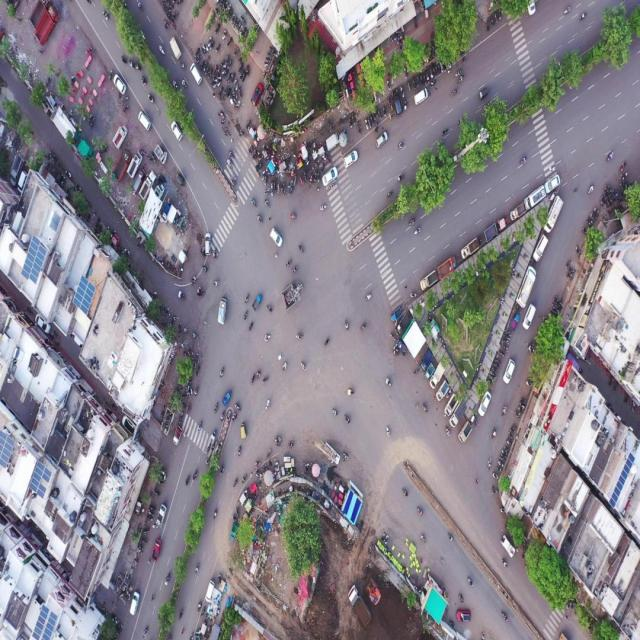3W: (478, 80, 490, 102), (239, 421, 248, 438)
Cars: (523, 303, 537, 333), (478, 390, 493, 418), (534, 234, 548, 264), (216, 294, 228, 328), (342, 147, 360, 169), (502, 360, 518, 384), (413, 84, 429, 107), (544, 174, 562, 194), (250, 81, 264, 106), (374, 131, 390, 152), (137, 110, 152, 132), (322, 166, 338, 185), (170, 120, 184, 141), (114, 74, 128, 95), (392, 89, 402, 117), (270, 225, 282, 248), (130, 590, 140, 615), (190, 64, 201, 86), (455, 608, 471, 622), (204, 228, 211, 257), (176, 169, 186, 189)
LCV: (516, 268, 536, 310), (544, 197, 565, 233), (524, 184, 546, 212), (322, 440, 341, 466), (140, 170, 155, 201), (437, 257, 457, 280), (460, 238, 479, 261), (420, 270, 438, 294), (127, 150, 141, 179), (450, 403, 467, 426), (112, 122, 127, 148), (509, 202, 526, 223), (443, 393, 458, 416), (168, 37, 182, 61), (150, 538, 162, 564), (156, 502, 168, 528), (419, 351, 433, 373), (154, 142, 167, 165), (459, 421, 472, 444), (436, 381, 449, 404), (325, 132, 340, 151), (251, 289, 263, 312), (397, 313, 409, 333), (221, 388, 234, 406), (395, 338, 407, 356), (172, 425, 182, 446), (509, 312, 520, 331), (391, 306, 402, 322), (425, 363, 435, 380)
M2W: (359, 317, 370, 338), (363, 286, 372, 308), (262, 330, 274, 346), (603, 149, 615, 165), (295, 240, 306, 256), (500, 608, 510, 625), (384, 424, 395, 439), (291, 263, 302, 278), (163, 571, 172, 589), (247, 372, 257, 388), (157, 41, 167, 57), (384, 186, 394, 202), (246, 319, 257, 333), (295, 328, 304, 345), (217, 364, 225, 382), (395, 171, 406, 184), (176, 607, 186, 621), (562, 4, 572, 18), (264, 398, 273, 413), (135, 0, 144, 15), (401, 487, 411, 500), (518, 155, 528, 168), (299, 356, 307, 372), (141, 624, 149, 640), (265, 300, 272, 318), (255, 214, 264, 228), (250, 197, 259, 211), (192, 466, 199, 484), (100, 8, 109, 22), (144, 90, 154, 102), (464, 576, 474, 588), (208, 428, 218, 440), (413, 225, 423, 237), (617, 160, 627, 172), (235, 445, 244, 458), (487, 455, 492, 478), (332, 404, 339, 420), (213, 398, 220, 414), (281, 358, 288, 374), (419, 530, 426, 546), (402, 98, 409, 114), (578, 11, 588, 22), (457, 592, 466, 604), (500, 556, 509, 568), (446, 531, 455, 543), (212, 246, 218, 264), (224, 158, 233, 170), (586, 183, 595, 195), (324, 334, 331, 349), (184, 472, 191, 487), (416, 502, 423, 517), (128, 57, 135, 72), (500, 404, 507, 419), (219, 461, 226, 475), (193, 563, 200, 577), (264, 196, 271, 210), (185, 401, 192, 415), (490, 428, 497, 442), (344, 320, 352, 332), (408, 217, 416, 229), (477, 230, 483, 246), (197, 420, 204, 433), (181, 77, 188, 90), (421, 401, 428, 414), (119, 55, 126, 68), (212, 506, 218, 521), (204, 454, 210, 469), (319, 202, 328, 212), (563, 258, 572, 268), (409, 289, 417, 300), (344, 412, 351, 424), (232, 476, 239, 488), (196, 600, 202, 614), (193, 383, 199, 397), (228, 148, 235, 160), (172, 78, 179, 90), (107, 68, 113, 82), (289, 211, 298, 220), (449, 89, 458, 98), (235, 402, 243, 412), (525, 380, 533, 390), (220, 408, 226, 421), (206, 442, 212, 455), (70, 73, 76, 86), (551, 295, 557, 308), (222, 29, 228, 42), (227, 34, 233, 47), (397, 141, 404, 152), (213, 279, 221, 288), (230, 174, 236, 186), (140, 75, 146, 87), (454, 69, 462, 78), (509, 424, 517, 433), (500, 344, 509, 352), (504, 328, 513, 336), (566, 272, 574, 281), (574, 244, 580, 256), (238, 88, 244, 100), (195, 46, 201, 58), (217, 86, 223, 98), (225, 72, 231, 84), (445, 425, 450, 439), (261, 375, 268, 385), (457, 76, 464, 86), (490, 15, 495, 29), (260, 170, 265, 184), (257, 367, 261, 384), (232, 411, 238, 422), (122, 102, 128, 113), (298, 174, 304, 185), (214, 23, 220, 34), (225, 54, 231, 65), (386, 79, 391, 92), (201, 266, 209, 274), (276, 180, 280, 196), (501, 338, 509, 346), (551, 309, 559, 317), (328, 182, 335, 191), (441, 126, 448, 135), (497, 350, 506, 357), (508, 431, 514, 441), (514, 410, 520, 420), (233, 47, 239, 57), (221, 65, 227, 75), (212, 79, 217, 91), (122, 94, 129, 102), (143, 529, 150, 537), (202, 43, 209, 51), (200, 58, 204, 72), (343, 452, 350, 460), (196, 365, 201, 376), (430, 80, 436, 89), (136, 59, 140, 72), (303, 170, 307, 183), (437, 62, 441, 75), (486, 20, 490, 33), (231, 70, 235, 83), (217, 76, 222, 86), (180, 63, 187, 70), (497, 460, 504, 467), (141, 538, 148, 545), (212, 439, 216, 451), (492, 472, 498, 480), (496, 466, 502, 474), (520, 402, 526, 410), (348, 116, 352, 128), (357, 124, 361, 136), (378, 109, 382, 121), (370, 114, 374, 126), (407, 80, 411, 92), (416, 76, 420, 88), (434, 64, 438, 76), (146, 516, 154, 522), (208, 36, 212, 48), (234, 78, 238, 90), (220, 57, 224, 69), (214, 64, 218, 76), (264, 175, 268, 187), (256, 471, 262, 479), (215, 44, 220, 53), (238, 63, 243, 72), (365, 120, 369, 131), (229, 59, 233, 70), (505, 440, 512, 446), (494, 357, 501, 363), (568, 267, 574, 274), (494, 11, 497, 25), (155, 490, 161, 497), (149, 505, 156, 511), (200, 48, 207, 54), (289, 186, 293, 196), (423, 74, 427, 84), (90, 118, 94, 128), (88, 114, 92, 124), (246, 64, 250, 74), (320, 162, 324, 172), (375, 106, 378, 119), (433, 65, 436, 78), (273, 180, 276, 192), (499, 456, 505, 462), (401, 86, 404, 98), (430, 67, 433, 79), (242, 73, 246, 82), (501, 450, 508, 455), (288, 180, 293, 187), (352, 114, 355, 125), (383, 106, 386, 117), (412, 79, 415, 90), (420, 75, 423, 86), (314, 170, 317, 181), (242, 474, 245, 485), (375, 122, 378, 132), (211, 41, 214, 51), (318, 170, 320, 184), (294, 175, 297, 184), (388, 96, 390, 108)
Truck: (343, 585, 371, 629), (33, 0, 58, 46), (111, 146, 131, 181)
